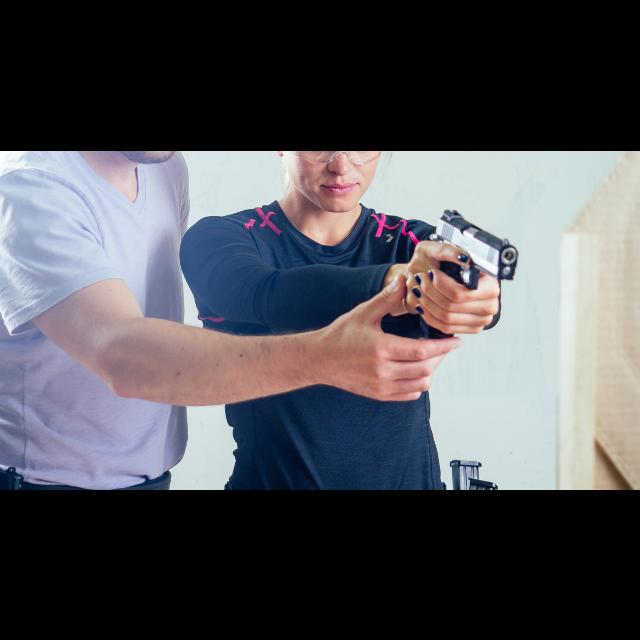handgun: (428, 208, 522, 290)
